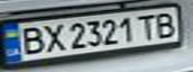1: (115, 14, 139, 43)
2: (66, 19, 87, 51), (100, 16, 121, 46)
3: (84, 17, 106, 48)
B: (15, 25, 48, 56), (151, 10, 178, 38)
T: (133, 11, 163, 39)
X: (39, 21, 69, 54)
